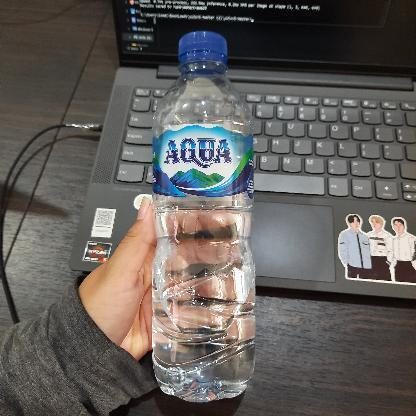Plastic Bottle: (148, 28, 260, 404)
